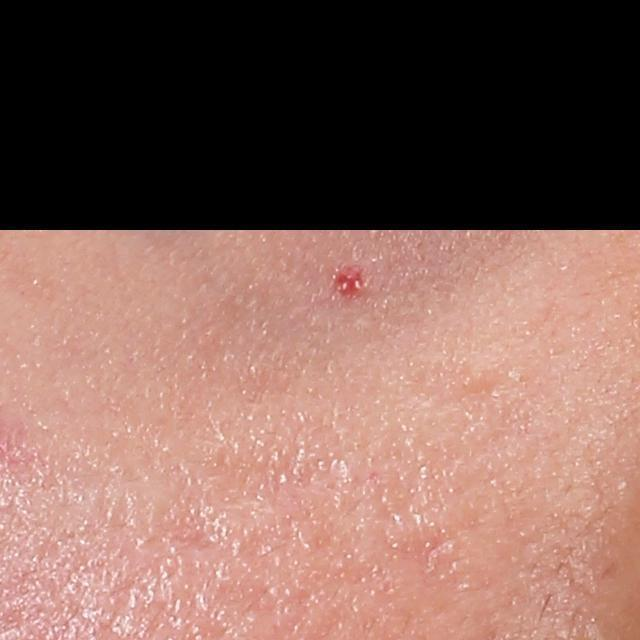other: (330, 261, 363, 301)
